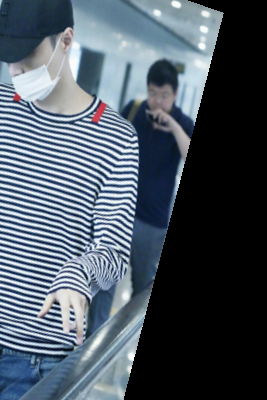mask_weared_incorrect: (1, 1, 95, 103)
